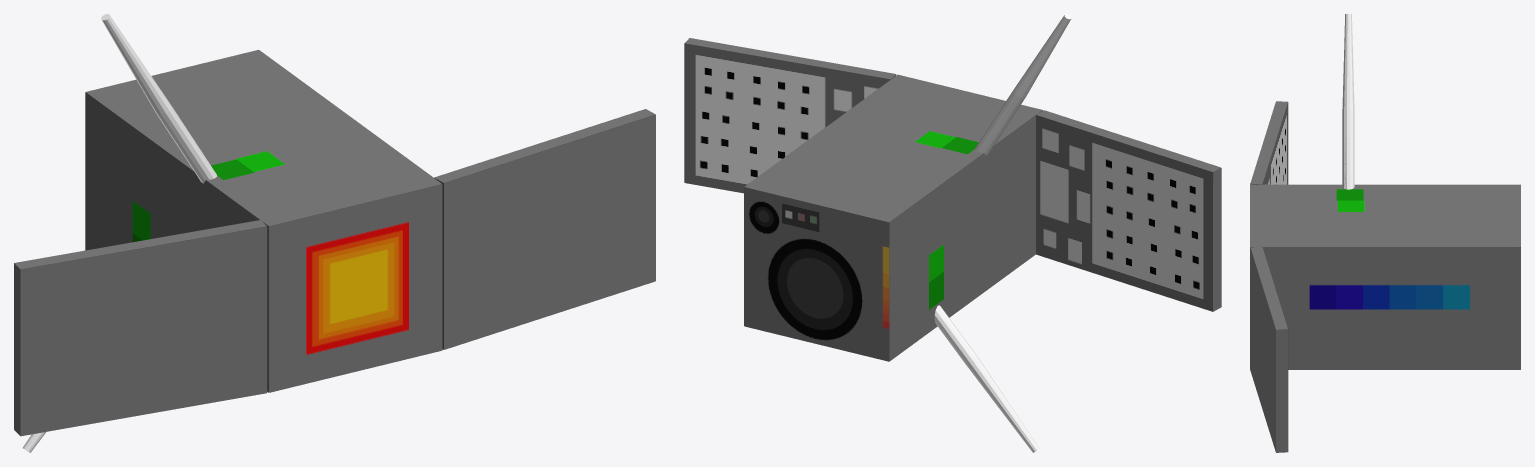
The model's file is spase supplies.obj.
3 views of the same model, side by side, from view 1: azimuth 30°, elevation 25°; view 2: azimuth 150°, elevation 25°; view 3: azimuth 270°, elevation 25° (orthographic). The views are drawn at different scales.
Parts seen in each view (by area): view 1: cuboid, Тело, cylinder; view 2: Тело, cuboid, cylinder; view 3: Тело, cuboid, cylinder.
Part boxes in pixels (x1,y1,x2,y2): cuboid: (14, 109, 655, 436); Тело: (85, 50, 442, 392); cylinder: (23, 14, 216, 452); Тело: (744, 74, 1042, 361); cuboid: (684, 38, 1221, 311); cylinder: (934, 14, 1071, 452); Тело: (1250, 184, 1520, 369); cuboid: (1250, 101, 1288, 452); cylinder: (1342, 14, 1354, 189).
Size of the model in its own units: 2.75 by 1.96 by 1.38.
Materials: 3 (3 with a texture image).
